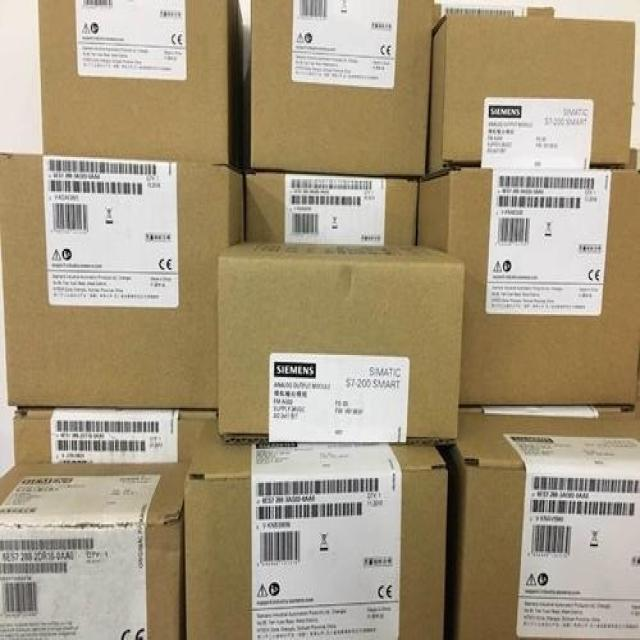box: (0, 154, 244, 410), (183, 415, 448, 640), (417, 167, 640, 408), (216, 241, 463, 444), (451, 411, 640, 640), (424, 7, 634, 177), (37, 0, 243, 171), (0, 464, 189, 640), (250, 0, 434, 177), (246, 171, 417, 246), (14, 408, 219, 468), (457, 406, 640, 422)
